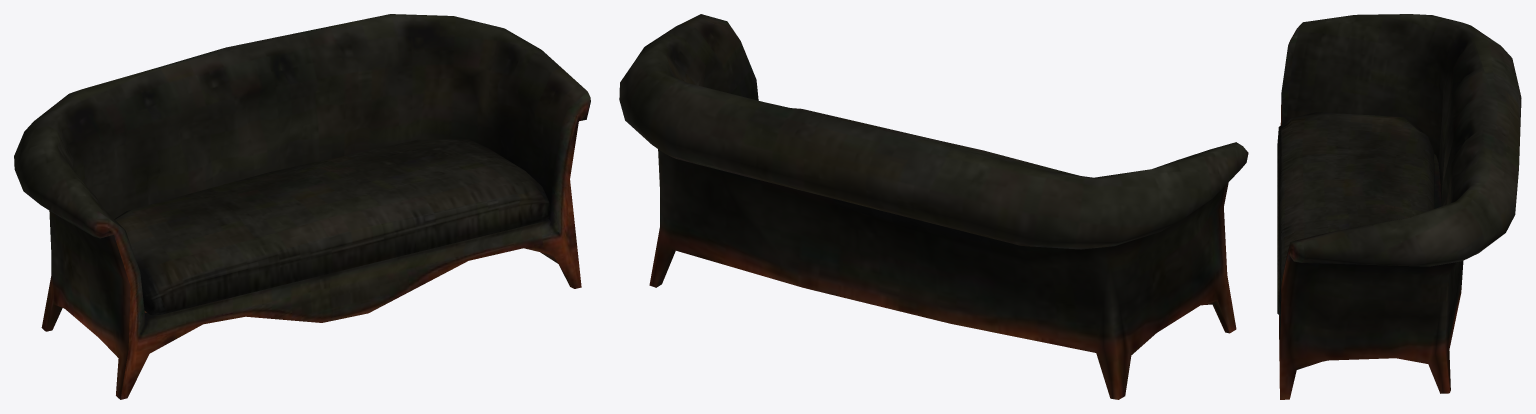
The model's file is sofa_02.glb.
3 renders of one model, left to right at view 1: azimuth 30°, elevation 25°; view 2: azimuth 150°, elevation 25°; view 3: azimuth 270°, elevation 25°, orthographic. The views are drawn at different scales.
Visible parts, largest first — view 1: sofa_02_Base, sofa_02_Seat; view 2: sofa_02_Base, sofa_02_Seat; view 3: sofa_02_Base, sofa_02_Seat.
Part boxes in pixels (<box>): sofa_02_Base: <box>14,14,590,399</box>; sofa_02_Seat: <box>114,139,550,315</box>; sofa_02_Base: <box>619,14,1248,399</box>; sofa_02_Seat: <box>791,108,1078,175</box>; sofa_02_Base: <box>1279,14,1521,399</box>; sofa_02_Seat: <box>1277,112,1434,315</box>.
Bounding box in the file's own units: 1.81 × 0.7095 × 0.8121.
Materials: 1 (1 with a texture image).
